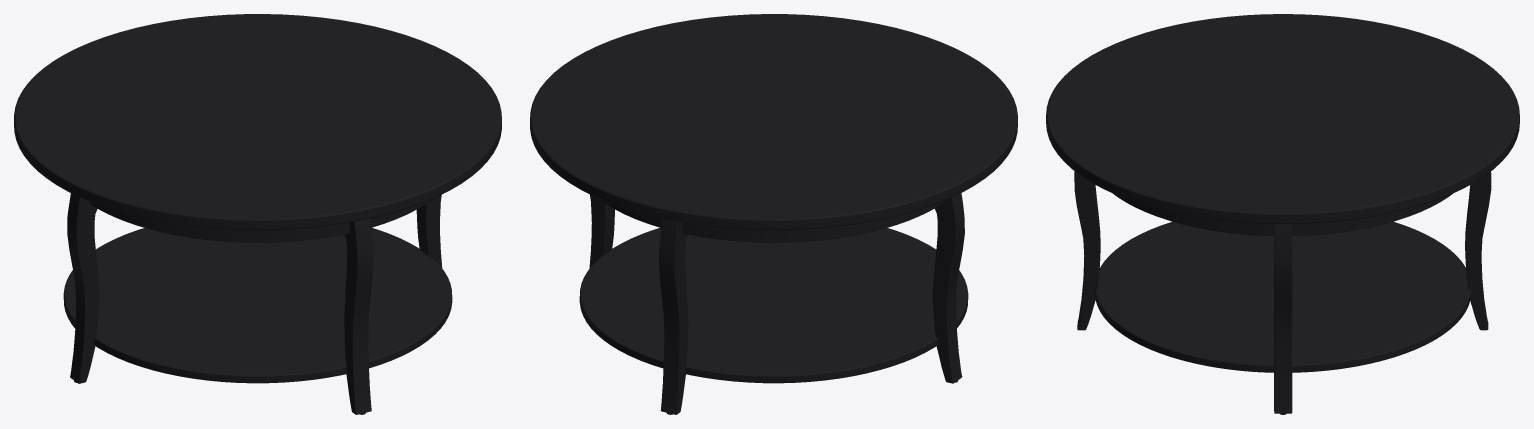
Rendered from abo-B07F3XM8M3.glb.
3 renders of one model, left to right at view 1: azimuth 30°, elevation 25°; view 2: azimuth 150°, elevation 25°; view 3: azimuth 270°, elevation 25°, orthographic. The views are drawn at different scales.
Size of the model in its own units: 0.914 by 0.457 by 0.914.
1 material, 1 textured.
